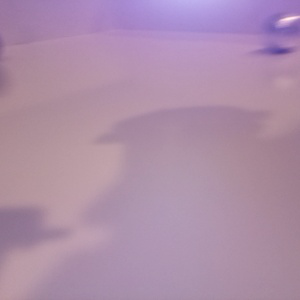alive_ball: (263, 13, 300, 50)
